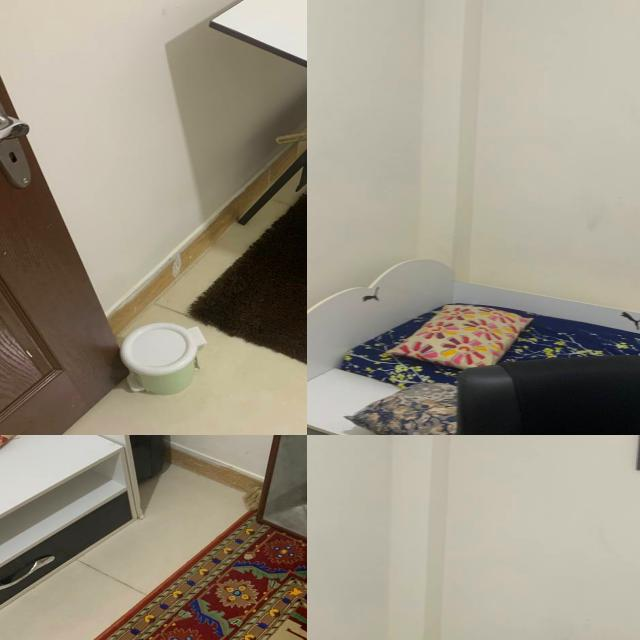Floor: (0, 449, 259, 640)
Wall: (440, 435, 640, 640), (307, 0, 403, 308)
